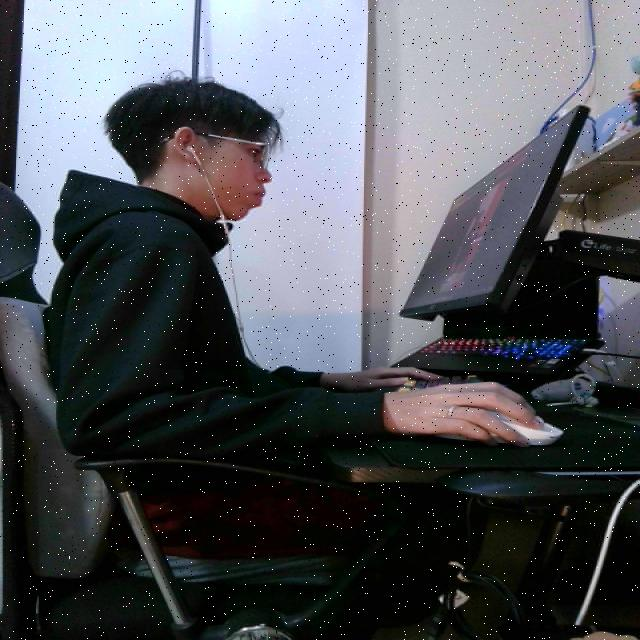Good: (54, 74, 432, 503)
